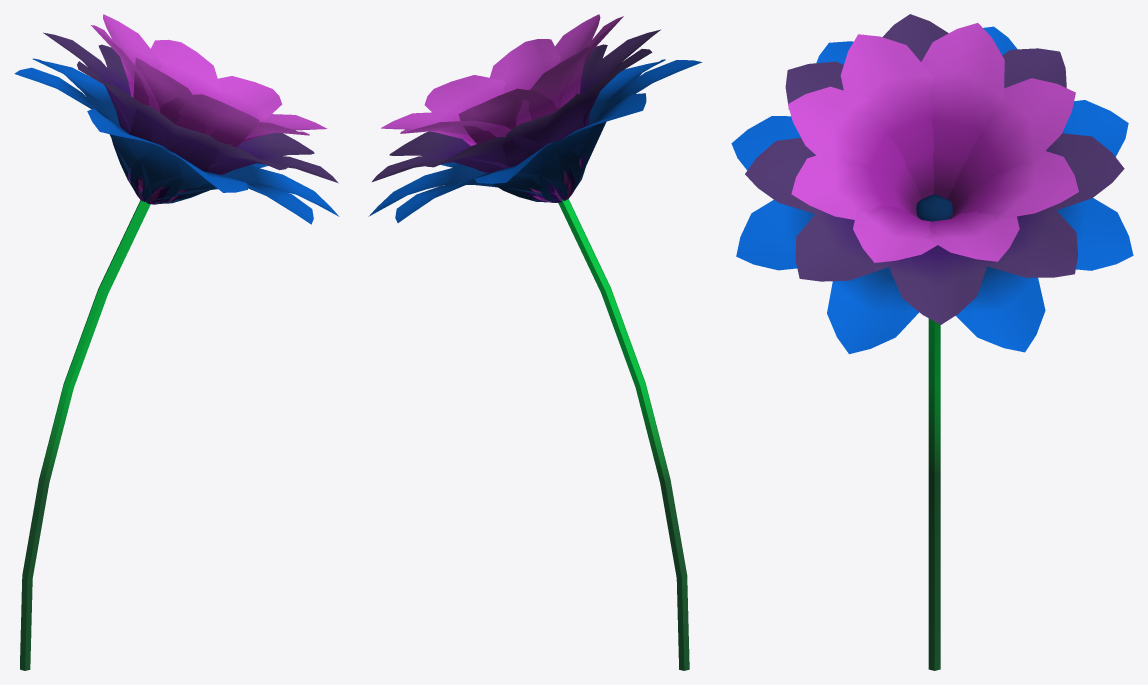
Rendered from Flower1.fbx.
3 views of the same model, side by side, from view 1: azimuth 30°, elevation 25°; view 2: azimuth 150°, elevation 25°; view 3: azimuth 270°, elevation 25° (orthographic). The views are drawn at different scales.
Parts seen in each view (by area): view 1: Flower1; view 2: Flower1; view 3: Flower1.
Boxes of the visible parts, box(x1,y1,x2,y2) form: Flower1: box(14, 14, 339, 670); Flower1: box(368, 14, 702, 670); Flower1: box(731, 14, 1133, 670).
Bounding box in the file's own units: 7.08 × 13.9 × 7.32.
